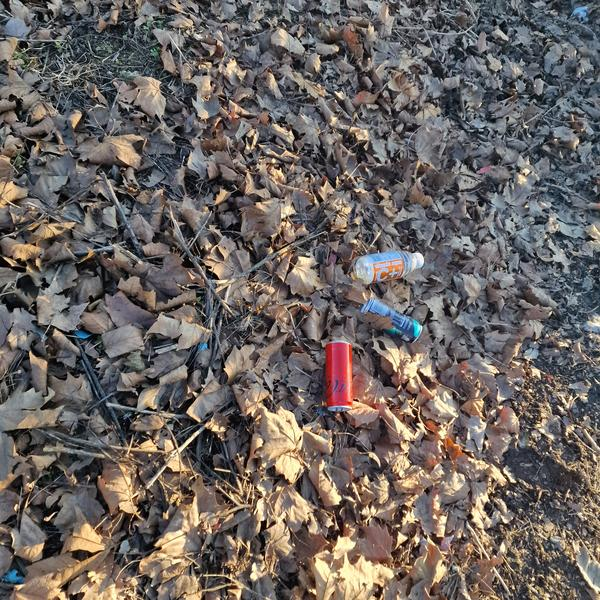can: (354, 291, 429, 351), (324, 340, 354, 412)
plastic_bottle: (352, 243, 427, 287)
